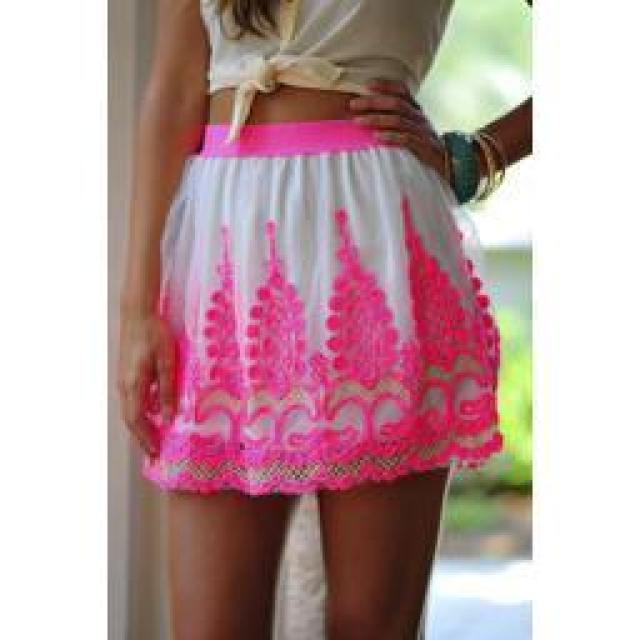skirt: (130, 121, 502, 496)
